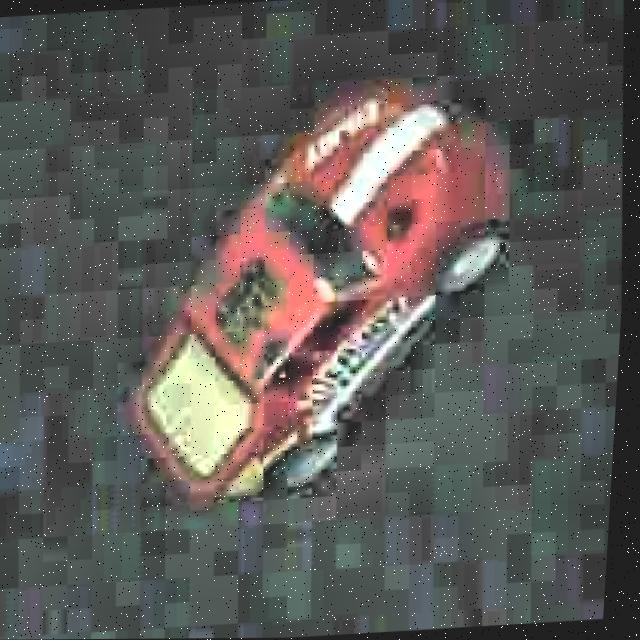car: (102, 66, 540, 511)
